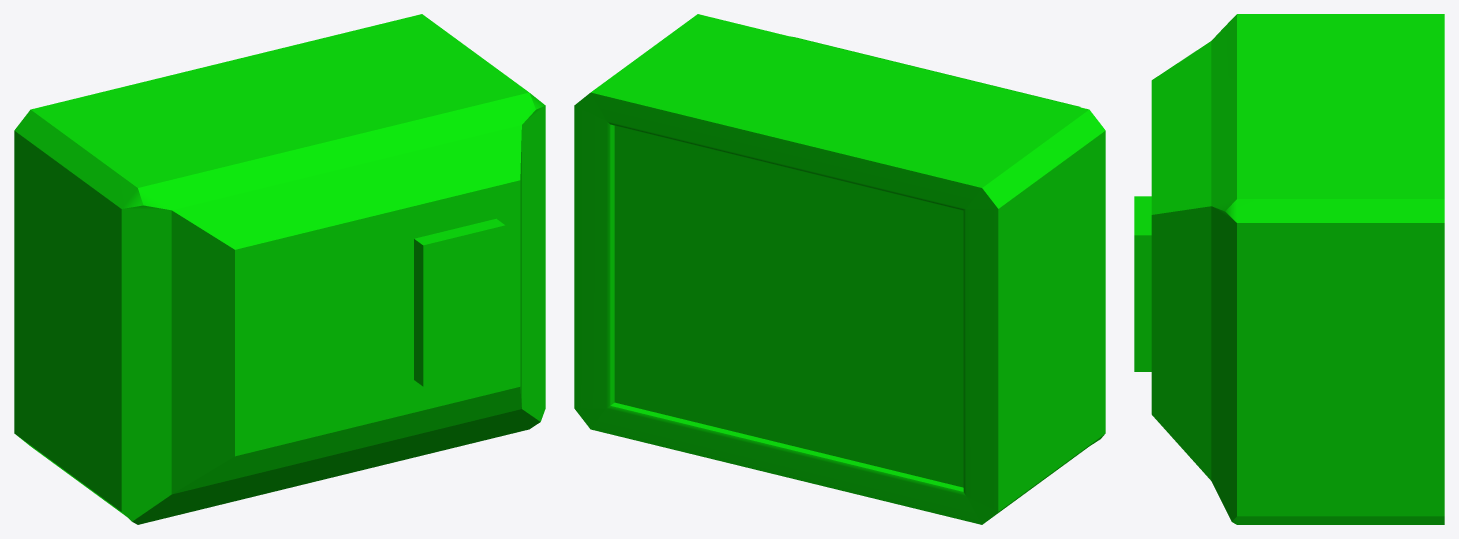
3 renders of one model, left to right at view 1: azimuth 30°, elevation 25°; view 2: azimuth 150°, elevation 25°; view 3: azimuth 270°, elevation 25°, orthographic. The views are drawn at different scales.
Parts seen in each view (by area): view 1: pCube264; view 2: pCube264; view 3: pCube264.
Boxes of the visible parts, left/top/right/bottom form: pCube264: left=14, top=14, right=545, bottom=524; pCube264: left=574, top=14, right=1105, bottom=524; pCube264: left=1134, top=14, right=1444, bottom=524.
Bounding box in the file's own units: 1.25 × 0.9489 × 0.8188.
